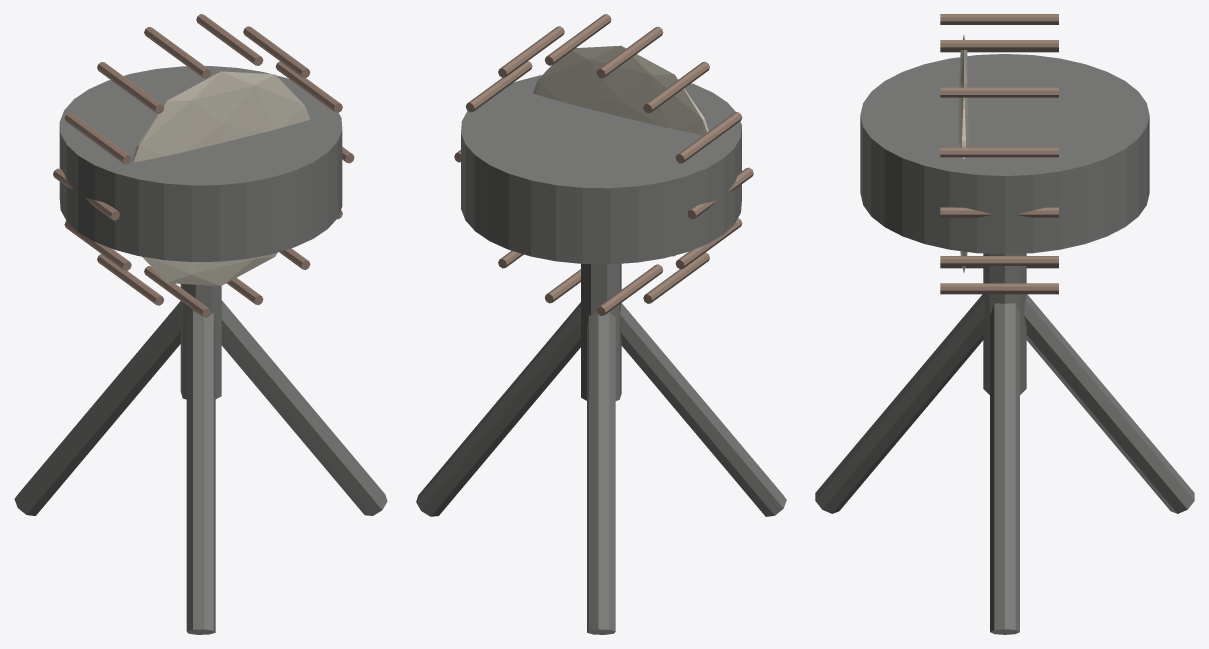
The model's file is scheinwerfer_stativ_1945.glb.
The picture shows the model from 3 angles, left to right: view 1: azimuth 30°, elevation 25°; view 2: azimuth 150°, elevation 25°; view 3: azimuth 270°, elevation 25°; orthographic projection. The views are drawn at different scales.
Parts seen in each view (by area): view 1: scheinwerfer_stativ_1945_004, scheinwerfer_stativ_1945_019, scheinwerfer_stativ_1945_001, scheinwerfer_stativ_1945_000, scheinwerfer_stativ_1945_002, scheinwerfer_stativ_1945_003, scheinwerfer_stativ_1945_007, scheinwerfer_stativ_1945_008, scheinwerfer_stativ_1945_009, scheinwerfer_stativ_1945_011, scheinwerfer_stativ_1945_010, scheinwerfer_stativ_1945_014 (+3 smaller); view 2: scheinwerfer_stativ_1945_004, scheinwerfer_stativ_1945_002, scheinwerfer_stativ_1945_019, scheinwerfer_stativ_1945_000, scheinwerfer_stativ_1945_001, scheinwerfer_stativ_1945_003, scheinwerfer_stativ_1945_008, scheinwerfer_stativ_1945_011, scheinwerfer_stativ_1945_010, scheinwerfer_stativ_1945_015, scheinwerfer_stativ_1945_007, scheinwerfer_stativ_1945_009 (+3 smaller); view 3: scheinwerfer_stativ_1945_004, scheinwerfer_stativ_1945_000, scheinwerfer_stativ_1945_001, scheinwerfer_stativ_1945_002, scheinwerfer_stativ_1945_003, scheinwerfer_stativ_1945_006, scheinwerfer_stativ_1945_007, scheinwerfer_stativ_1945_017, scheinwerfer_stativ_1945_008, scheinwerfer_stativ_1945_009, scheinwerfer_stativ_1945_018, scheinwerfer_stativ_1945_019 (+1 smaller).
Boxes of the visible parts, bbox=[...] form: scheinwerfer_stativ_1945_004: bbox=[59, 66, 342, 261]; scheinwerfer_stativ_1945_019: bbox=[132, 71, 309, 285]; scheinwerfer_stativ_1945_001: bbox=[186, 310, 215, 634]; scheinwerfer_stativ_1945_000: bbox=[221, 300, 387, 515]; scheinwerfer_stativ_1945_002: bbox=[14, 301, 181, 515]; scheinwerfer_stativ_1945_003: bbox=[180, 284, 221, 399]; scheinwerfer_stativ_1945_007: bbox=[243, 26, 310, 78]; scheinwerfer_stativ_1945_008: bbox=[196, 14, 263, 65]; scheinwerfer_stativ_1945_009: bbox=[144, 26, 210, 78]; scheinwerfer_stativ_1945_011: bbox=[64, 112, 131, 164]; scheinwerfer_stativ_1945_010: bbox=[97, 62, 163, 113]; scheinwerfer_stativ_1945_014: bbox=[97, 254, 163, 305]; scheinwerfer_stativ_1945_004: bbox=[461, 75, 741, 264]; scheinwerfer_stativ_1945_002: bbox=[587, 311, 615, 634]; scheinwerfer_stativ_1945_019: bbox=[533, 45, 708, 256]; scheinwerfer_stativ_1945_000: bbox=[416, 302, 580, 516]; scheinwerfer_stativ_1945_001: bbox=[620, 303, 786, 516]; scheinwerfer_stativ_1945_003: bbox=[581, 263, 621, 400]; scheinwerfer_stativ_1945_008: bbox=[545, 14, 611, 65]; scheinwerfer_stativ_1945_011: bbox=[675, 112, 742, 163]; scheinwerfer_stativ_1945_010: bbox=[643, 61, 709, 113]; scheinwerfer_stativ_1945_015: bbox=[596, 264, 663, 315]; scheinwerfer_stativ_1945_007: bbox=[498, 26, 564, 77]; scheinwerfer_stativ_1945_009: bbox=[596, 26, 663, 78]; scheinwerfer_stativ_1945_004: bbox=[860, 54, 1149, 254]; scheinwerfer_stativ_1945_000: bbox=[990, 303, 1019, 634]; scheinwerfer_stativ_1945_001: bbox=[815, 294, 985, 513]; scheinwerfer_stativ_1945_002: bbox=[1024, 294, 1194, 513]; scheinwerfer_stativ_1945_003: bbox=[983, 253, 1026, 394]; scheinwerfer_stativ_1945_006: bbox=[940, 147, 1058, 157]; scheinwerfer_stativ_1945_007: bbox=[940, 87, 1058, 97]; scheinwerfer_stativ_1945_017: bbox=[940, 283, 1058, 293]; scheinwerfer_stativ_1945_008: bbox=[940, 40, 1058, 49]; scheinwerfer_stativ_1945_009: bbox=[940, 14, 1058, 23]; scheinwerfer_stativ_1945_018: bbox=[940, 256, 1058, 265]; scheinwerfer_stativ_1945_019: bbox=[958, 35, 969, 272].
Bounding box in the file's own units: 1.68 × 2.69 × 1.76.
